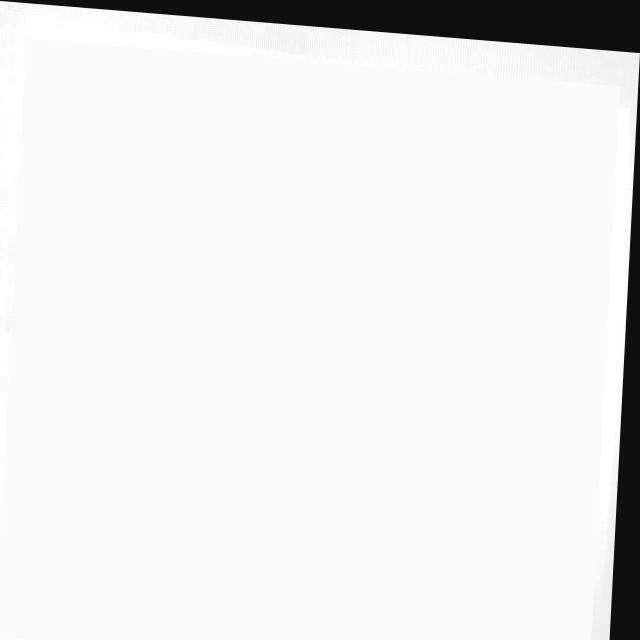qr_code: (2, 37, 621, 640)
